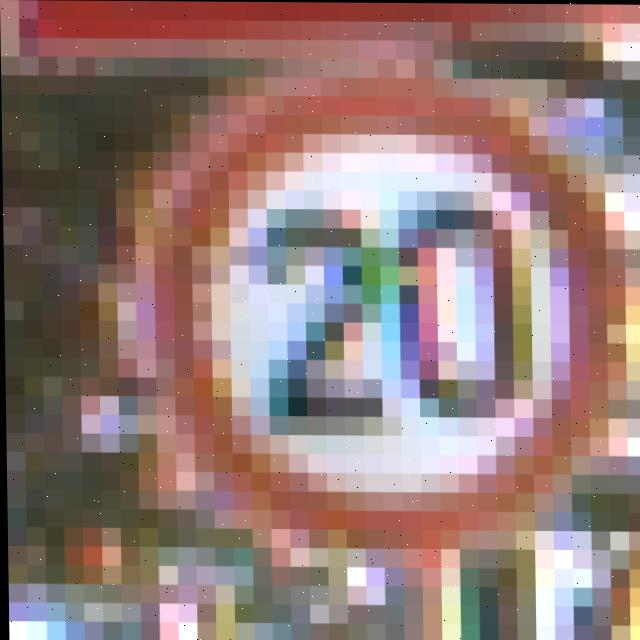speed_limit_20: (139, 88, 619, 544)
